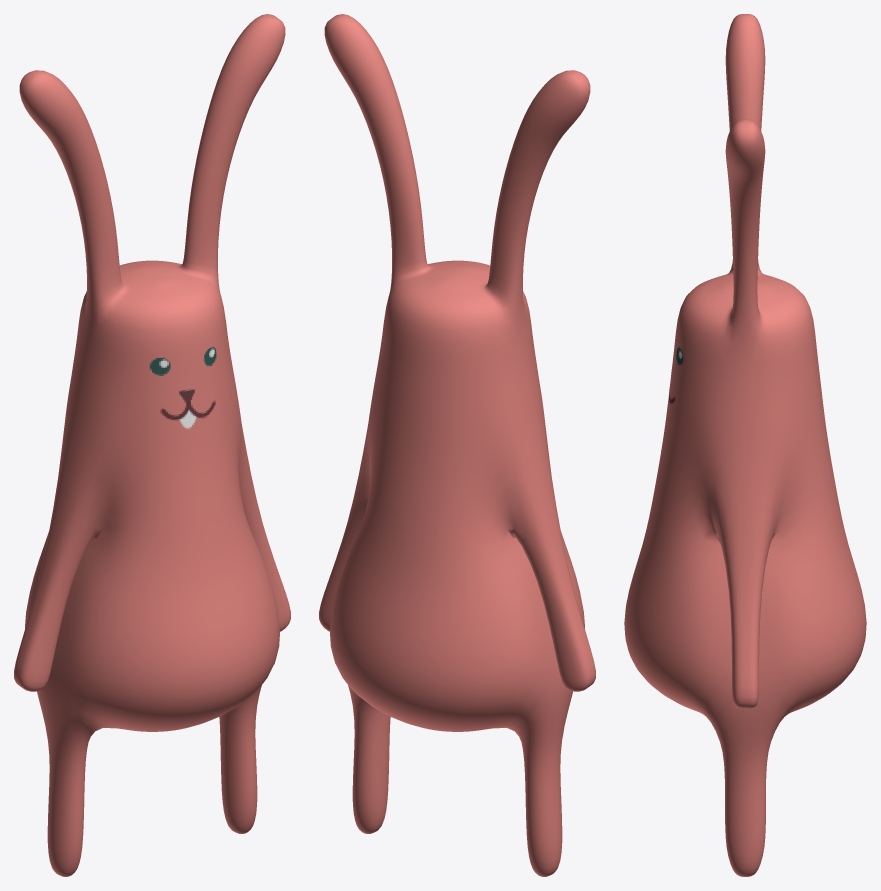
The model's file is nyuszi_01.FBX.
3 views of the same model, side by side, from view 1: azimuth 30°, elevation 25°; view 2: azimuth 150°, elevation 25°; view 3: azimuth 270°, elevation 25° (orthographic). The views are drawn at different scales.
Parts seen in each view (by area): view 1: Line001; view 2: Line001; view 3: Line001.
Part boxes in pixels (x1,y1,x2,y2): Line001: (14, 14, 290, 876); Line001: (319, 14, 595, 876); Line001: (624, 14, 866, 876).
Size of the model in its own units: 34.86 by 28.54 by 99.68.
1 material, 1 textured.
